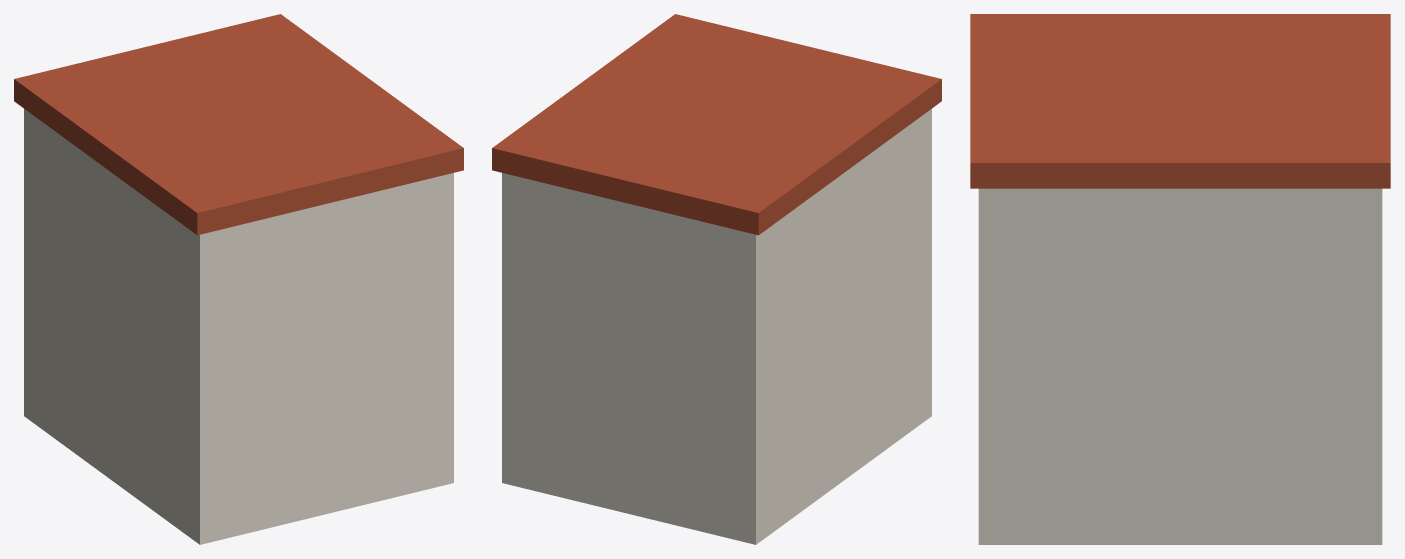
File: CoastalHouse2.fbx
3 renders of one model, left to right at view 1: azimuth 30°, elevation 25°; view 2: azimuth 150°, elevation 25°; view 3: azimuth 270°, elevation 25°, orthographic. The views are drawn at different scales.
Parts seen in each view (by area): view 1: CoastalHouse2Mesh; view 2: CoastalHouse2Mesh; view 3: CoastalHouse2Mesh.
Part boxes in pixels (x1,y1,x2,y2): CoastalHouse2Mesh: (14, 14, 463, 544); CoastalHouse2Mesh: (492, 14, 941, 544); CoastalHouse2Mesh: (970, 14, 1390, 544).
Bounding box in the file's own units: 7.51 × 9.05 × 8.94.
